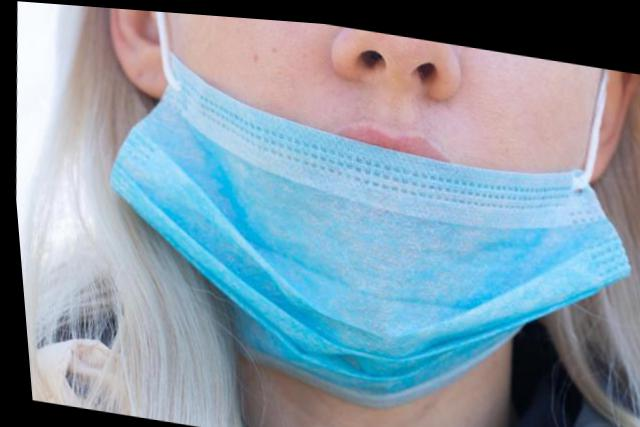WRONG: (119, 7, 640, 427)
